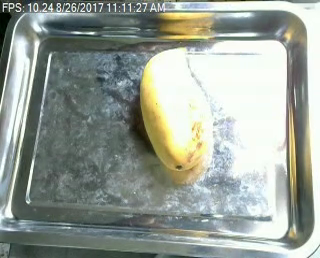Mango: (133, 45, 212, 170)
